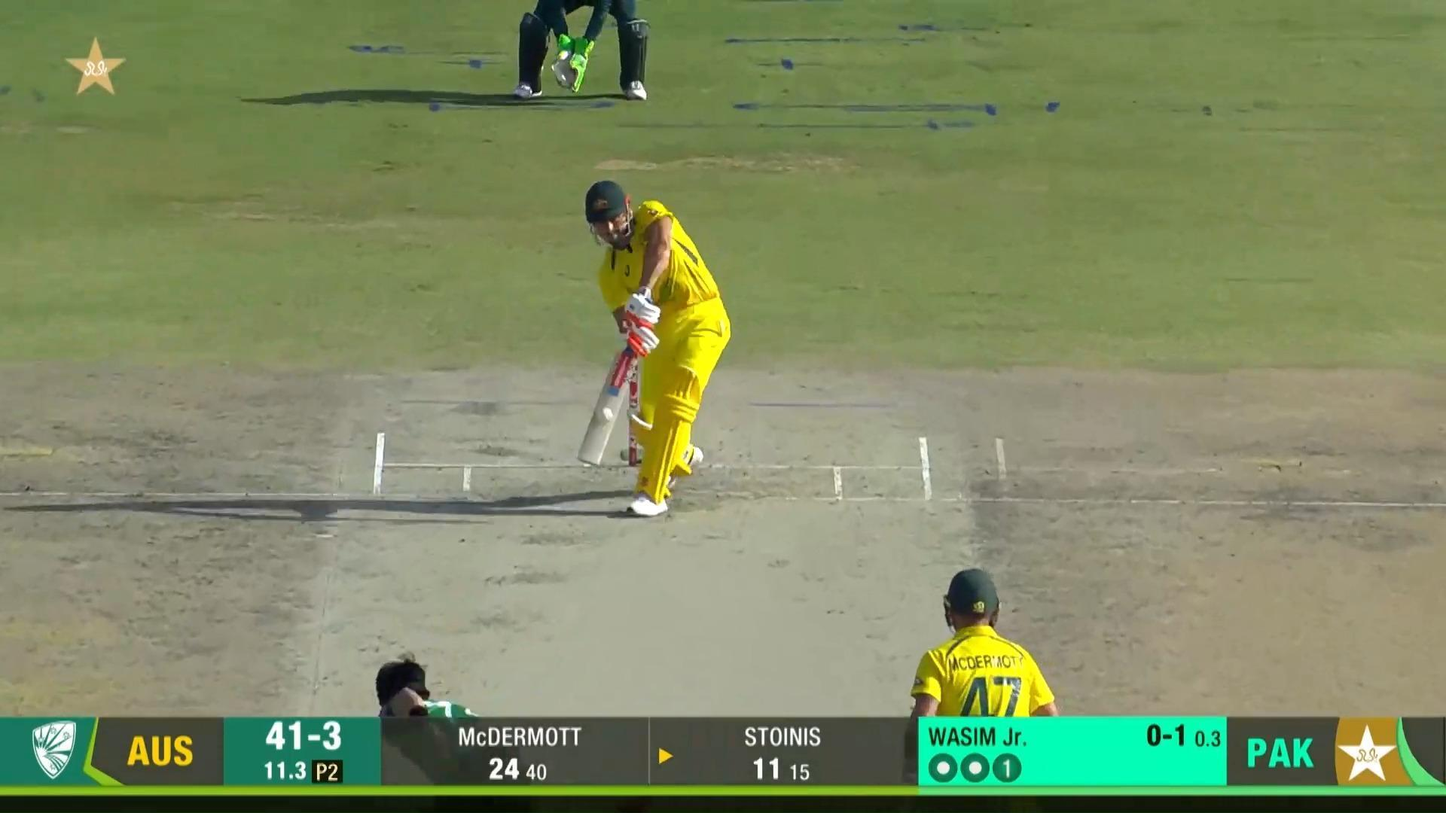BM 1: (577, 177, 734, 518)
BO: (375, 649, 478, 718)
